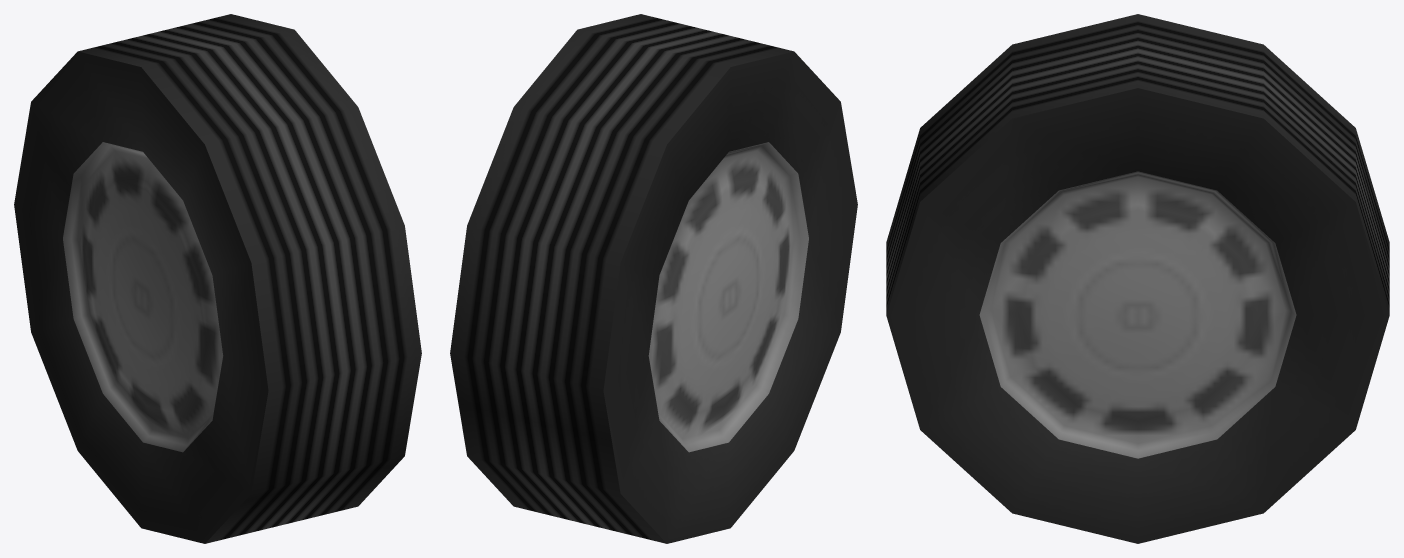
File: LxiCovetWheel.fbx
The picture shows the model from 3 angles, left to right: view 1: azimuth 30°, elevation 25°; view 2: azimuth 150°, elevation 25°; view 3: azimuth 270°, elevation 25°; orthographic projection.
Parts seen in each view (by area): view 1: WheelCovetA; view 2: WheelCovetA; view 3: WheelCovetA.
Boxes of the visible parts, x1,y1,x2,y2 form: WheelCovetA: [14, 14, 421, 543]; WheelCovetA: [450, 14, 857, 543]; WheelCovetA: [886, 14, 1389, 543].
Size of the model in its own units: 0.2177 by 0.6253 by 0.6253.
